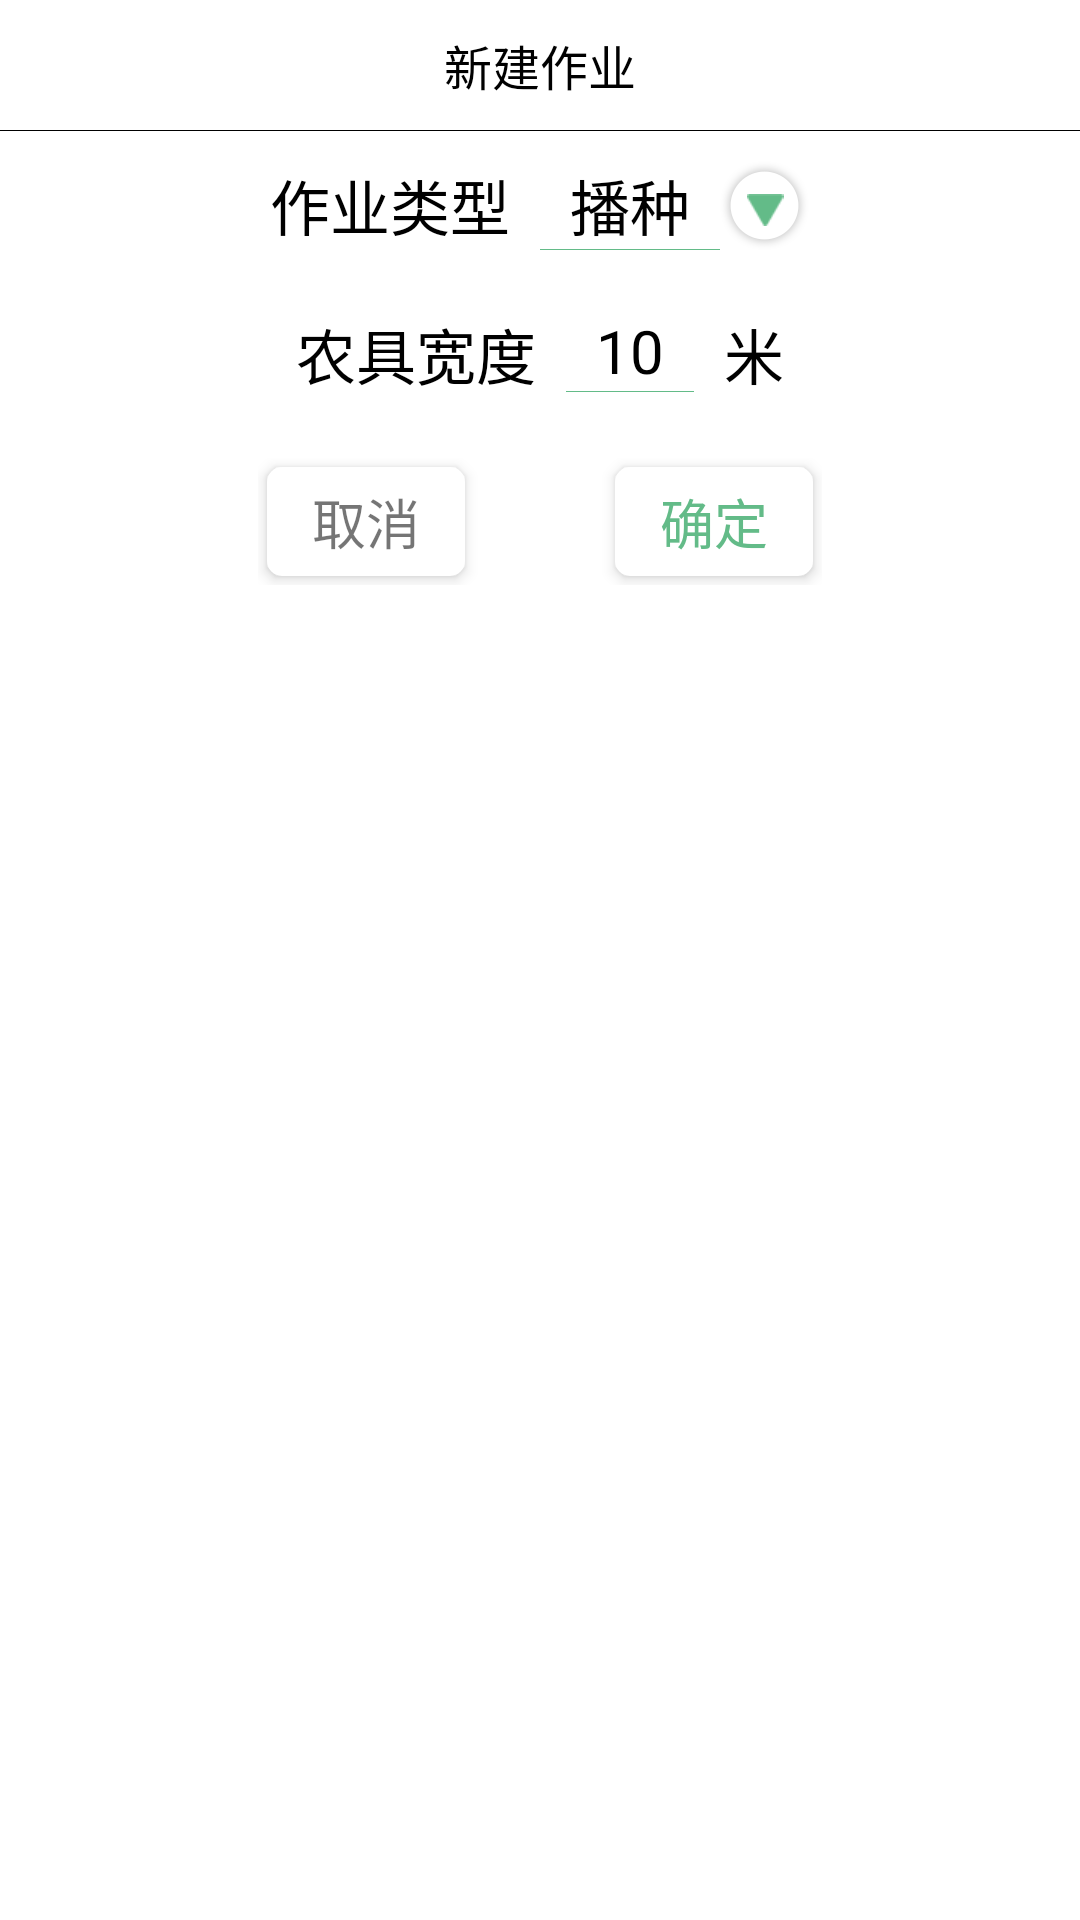

Where icons sit on this 1080px×1920px app screen, as [x1=x1, y1=y1, x2=x2, y2=y2]:
more: [x1=729, y1=170, x2=800, y2=241]
